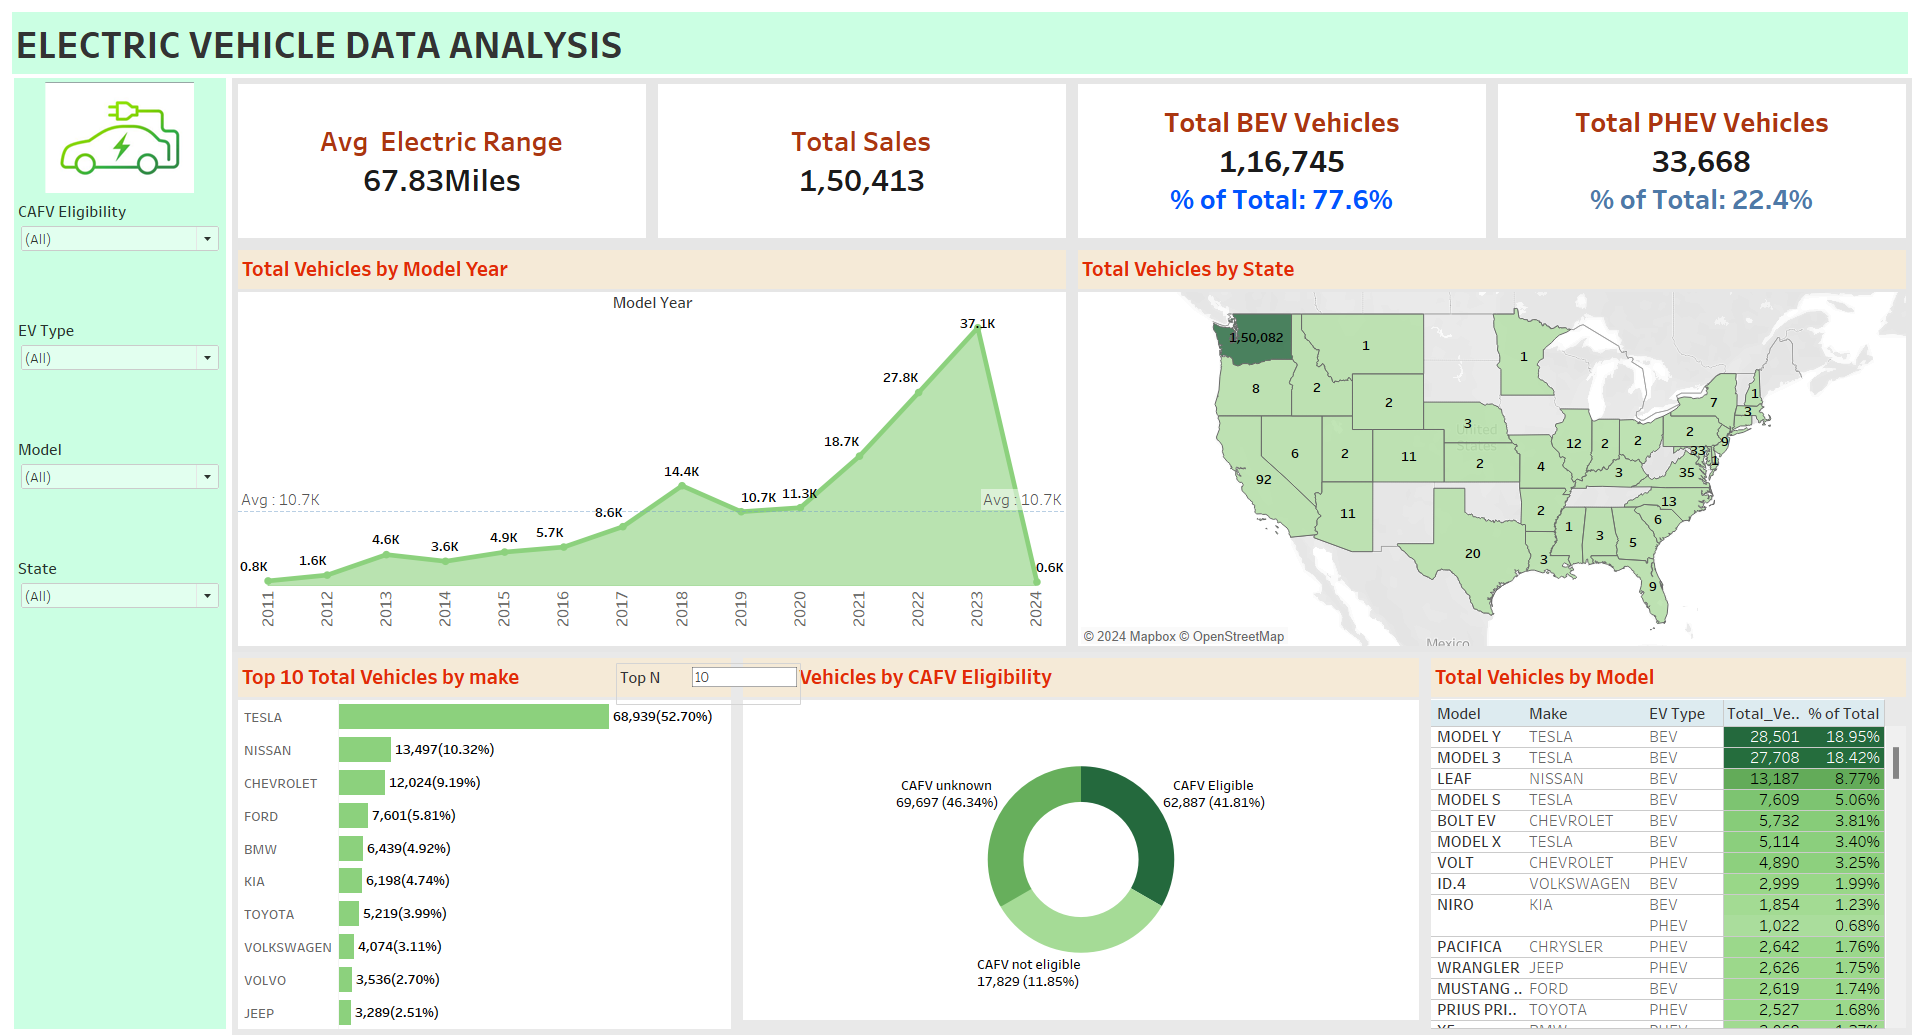

What the dashboard file says about the page in this screenshot:
{"tool":"tableau","page":{"name":"ELECTRIC VEHICLE DATA ANALYSIS","canvas":[1000,1000],"units":"permille","ordinal":0},"visuals":[{"type":"title","box":[4.8,9.4,990.3,67]},{"type":"image","param":"Image/Yellow Minimalist Round Shaped Cafe Logo.png","box":[8.4,76.4,109.2,114]},{"type":"worksheet","title":"Avg ELectric Range","mark":"Automatic","box":[121.3,76.4,218.5,158.6]},{"type":"worksheet","title":"Total vehicles","mark":"Automatic","box":[339.8,76.4,218.5,158.6]},{"type":"worksheet","title":"Total BEV Vehicles","mark":"Automatic","box":[558.2,76.4,218.5,158.6]},{"type":"worksheet","title":"Total PHEV Vehicles","mark":"Automatic","box":[776.7,76.4,218.5,158.6]},{"type":"filter","title":"Total Vehicles by Model Year","param":"[federated.15l5z3p14uqckl1eayfgg16ru1g5].[none:Clean Alternative Fuel Vehicle (C","box":[8.4,190.4,109.2,114]},{"type":"worksheet","title":"Total Vehicles by Model Year","mark":"Area","rows":["Calculation_322007410498744320","Calculation_322007410498744320"],"cols":["Model Year"],"box":[121.3,235,436.9,390.1]},{"type":"worksheet","title":"Total Vehicles by State","mark":"Multipolygon","box":[558.2,235,436.9,390.1]},{"type":"filter","title":"Total Vehicles by Model Year","param":"[federated.15l5z3p14uqckl1eayfgg16ru1g5].[none:Electric Vehicle Type:nk]","box":[8.4,304.4,109.2,114]},{"type":"filter","title":"Total Vehicles by Model Year","param":"[federated.15l5z3p14uqckl1eayfgg16ru1g5].[none:Model:nk]","box":[8.4,418.3,109.2,114]},{"type":"filter","title":"Total Vehicles by Model Year","param":"[federated.15l5z3p14uqckl1eayfgg16ru1g5].[none:State:nk]","box":[8.4,532.3,109.2,112.8]},{"type":"worksheet","title":"Top 10 Total Vehicles by make","mark":"Automatic","rows":["Make"],"cols":["Calculation_322007410498744320"],"box":[121.3,625.1,304.8,365.4]},{"type":"worksheet","title":"Total Vehicles by CAFV Eligibility","mark":"Pie","rows":["Calculation_322007410634457097","Calculation_322007410634457097"],"box":[426.1,625.1,275.2,365.4]},{"type":"worksheet","title":"Total Vehicles by Model","mark":"Square","rows":["Model","Make","Electric Vehicle Type"],"box":[701.3,625.1,293.9,365.4]},{"type":"parameter","param":"[Parameters].[Parameter 1]","box":[321.1,635.7,96.6,40]},{"type":"blank","box":[8.4,645.1,109.2,112.8]},{"type":"blank","box":[8.4,757.9,109.2,112.8]},{"type":"blank","box":[8.4,870.7,109.2,112.8]}]}

Visuals, with their boxes on the dashboard's canvas, which has no fixed pixel size, in thousandths of its width and height (x1, y1, x2, y2). These are canvas units, not pixel positions in the 1920x1036 screenshot, which may show the page scaled, cropped or inside an application window:
title: [left=5, top=9, right=995, bottom=76]
image: [left=8, top=76, right=118, bottom=190]
"Avg ELectric Range" worksheet: [left=121, top=76, right=340, bottom=235]
"Total vehicles" worksheet: [left=340, top=76, right=558, bottom=235]
"Total BEV Vehicles" worksheet: [left=558, top=76, right=777, bottom=235]
"Total PHEV Vehicles" worksheet: [left=777, top=76, right=995, bottom=235]
"Total Vehicles by Model Year" filter: [left=8, top=190, right=118, bottom=304]
"Total Vehicles by Model Year" worksheet (Area marks): [left=121, top=235, right=558, bottom=625]
"Total Vehicles by State" worksheet (Multipolygon marks): [left=558, top=235, right=995, bottom=625]
"Total Vehicles by Model Year" filter: [left=8, top=304, right=118, bottom=418]
"Total Vehicles by Model Year" filter: [left=8, top=418, right=118, bottom=532]
"Total Vehicles by Model Year" filter: [left=8, top=532, right=118, bottom=645]
"Top 10 Total Vehicles by make" worksheet: [left=121, top=625, right=426, bottom=990]
"Total Vehicles by CAFV Eligibility" worksheet (Pie marks): [left=426, top=625, right=701, bottom=990]
"Total Vehicles by Model" worksheet (Square marks): [left=701, top=625, right=995, bottom=990]
parameter: [left=321, top=636, right=418, bottom=676]
blank: [left=8, top=645, right=118, bottom=758]
blank: [left=8, top=758, right=118, bottom=871]
blank: [left=8, top=871, right=118, bottom=984]
